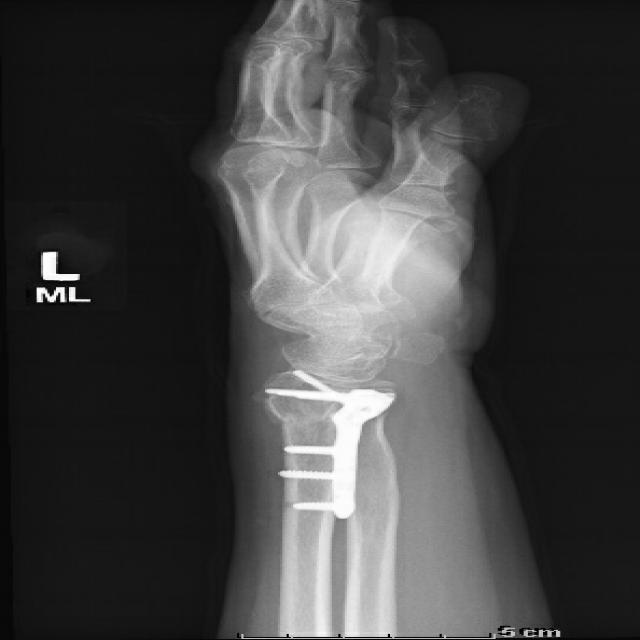x-ray: (256, 361, 418, 533)
